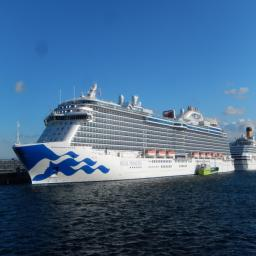cruises: (14, 78, 239, 178), (229, 125, 256, 174)
